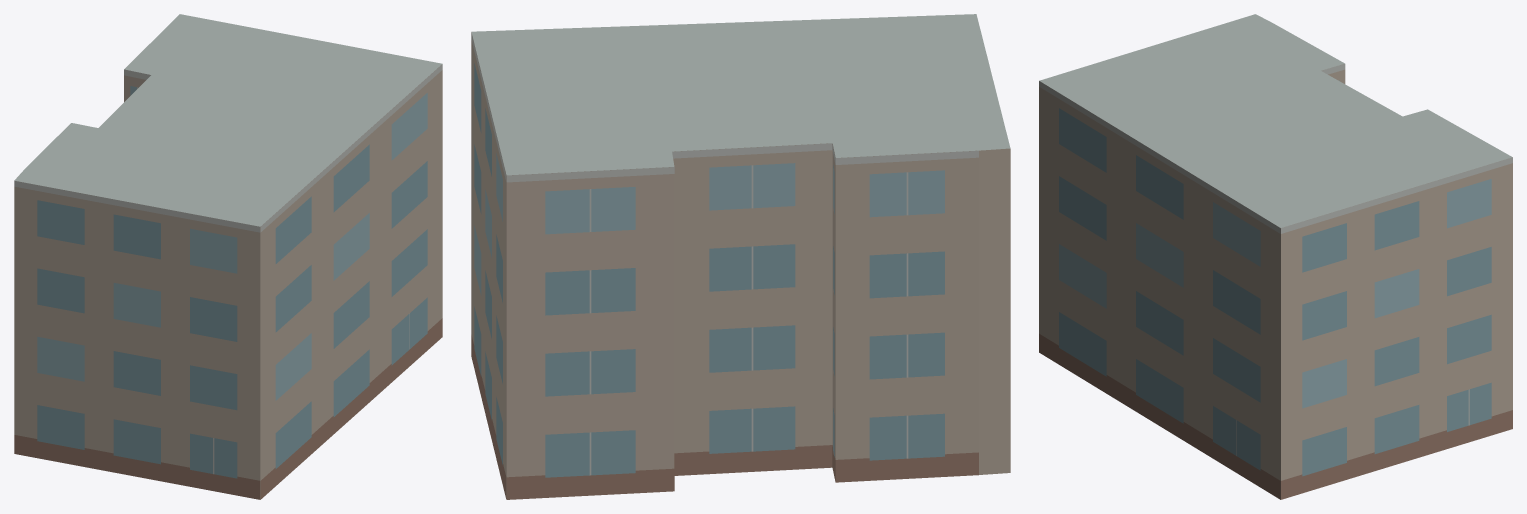
The model's file is survey-upis-32882560.glb.
3 renders of one model, left to right at view 1: azimuth 30°, elevation 25°; view 2: azimuth 150°, elevation 25°; view 3: azimuth 270°, elevation 25°, orthographic. The views are drawn at different scales.
Visible parts, largest first — view 1: survey-upis-32882560.tmp; view 2: survey-upis-32882560.tmp; view 3: survey-upis-32882560.tmp.
Boxes of the visible parts, x1,y1,x2,y2 form: survey-upis-32882560.tmp: [14, 14, 442, 499]; survey-upis-32882560.tmp: [471, 14, 1010, 499]; survey-upis-32882560.tmp: [1039, 14, 1512, 499].
Size of the model in its own units: 18.94 by 11.2 by 17.71.
